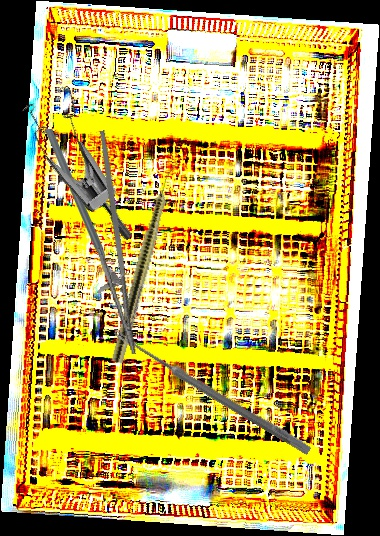Chopper: (44, 129, 126, 285)
Handpiece: (110, 158, 180, 365)
Needle Holder: (57, 129, 163, 360)
Speculum: (0, 74, 178, 243)
Surgical Spoon: (110, 327, 313, 456)
